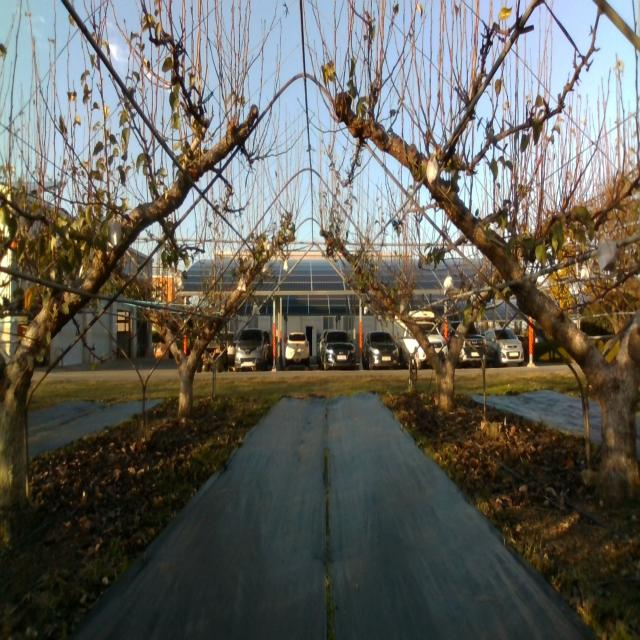pearbags: (596, 235, 617, 272), (426, 155, 440, 190), (109, 220, 122, 247), (443, 275, 454, 296)
